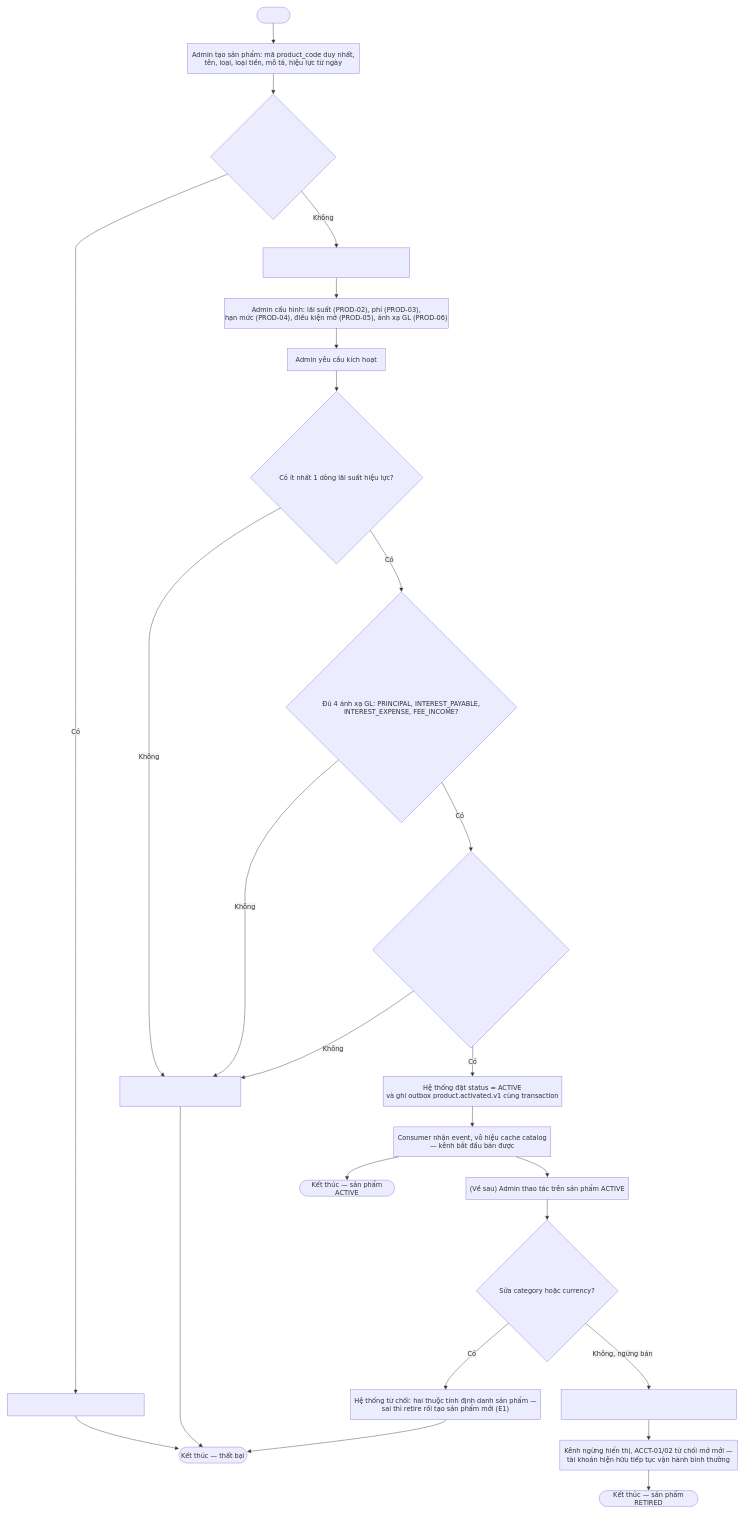
This 745x1514 diagram has some shape labels left out. The shapes that lost their labels are listed below. From the top down, each one's centre as x and y in pixels, then its label:
At point (273, 15): "Bắt đầu".
At point (273, 157): "product_code đã tồn tại?".
At point (336, 262): "Hệ thống ghi products với status = DRAFT (soạn thoải mái, chưa kênh nào thấy)".
At point (470, 949): "Sản phẩm cho phép giao dịch: đã khai đủ bộ hạn mức? (BR-PROD-04-3)".
At point (180, 1091): "Hệ thống từ chối kèm danh sách hạng mục còn thiếu (E5)".
At point (75, 1404): "Hệ thống từ chối: trùng mã sản phẩm".
At point (649, 1404): "Hệ thống chuyển ACTIVE sang RETIRED (một chiều) và ghi outbox product.retired.v1".
